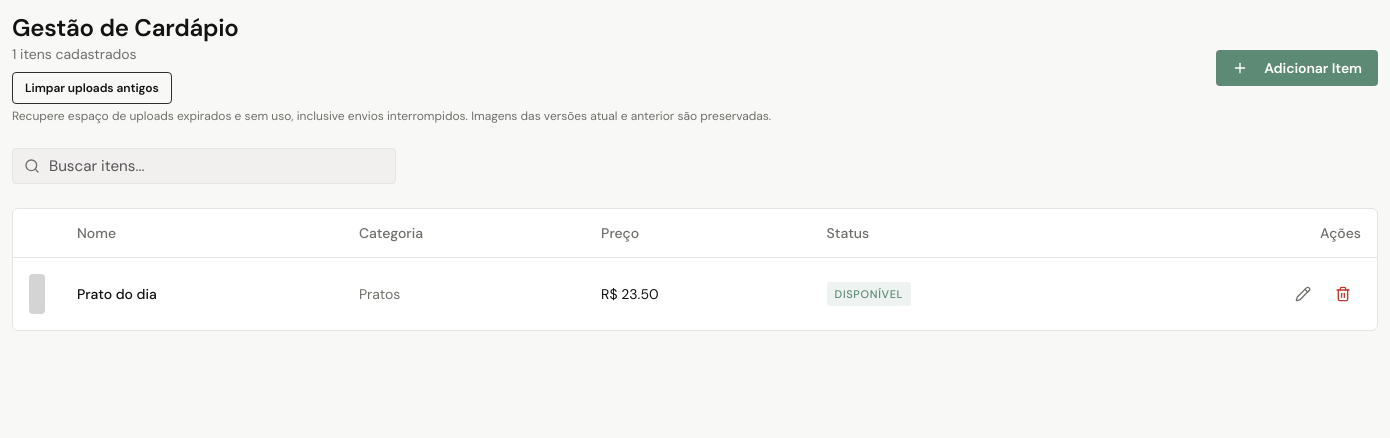
Test: owner menu receipt and image ordering integration, reader=true › deletes the domain first, then asks authenticated cleanup for the exact old object
Expected: the text "Prato do dia" is shown, [77,284,157,304]
Click the button named "Remover Prato do dia": (1343, 294) [1325,276,1361,312]
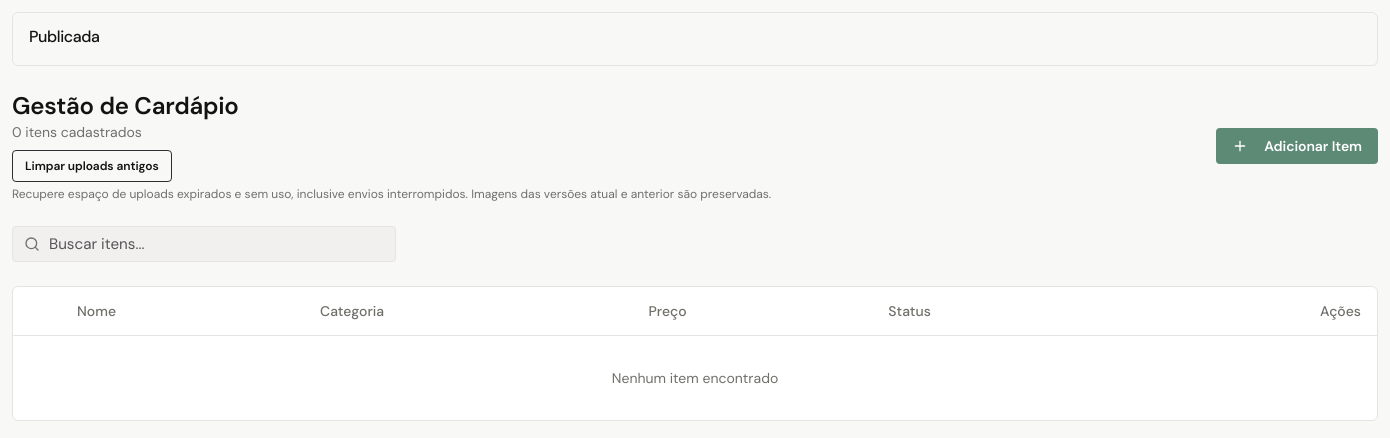
Result: the text "Prato do dia" is gone
